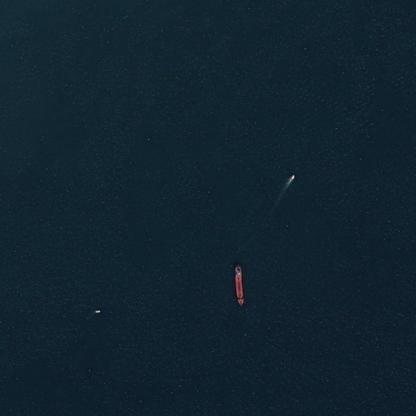ship: (94, 306, 98, 314), (232, 282, 246, 284), (289, 174, 293, 178)
